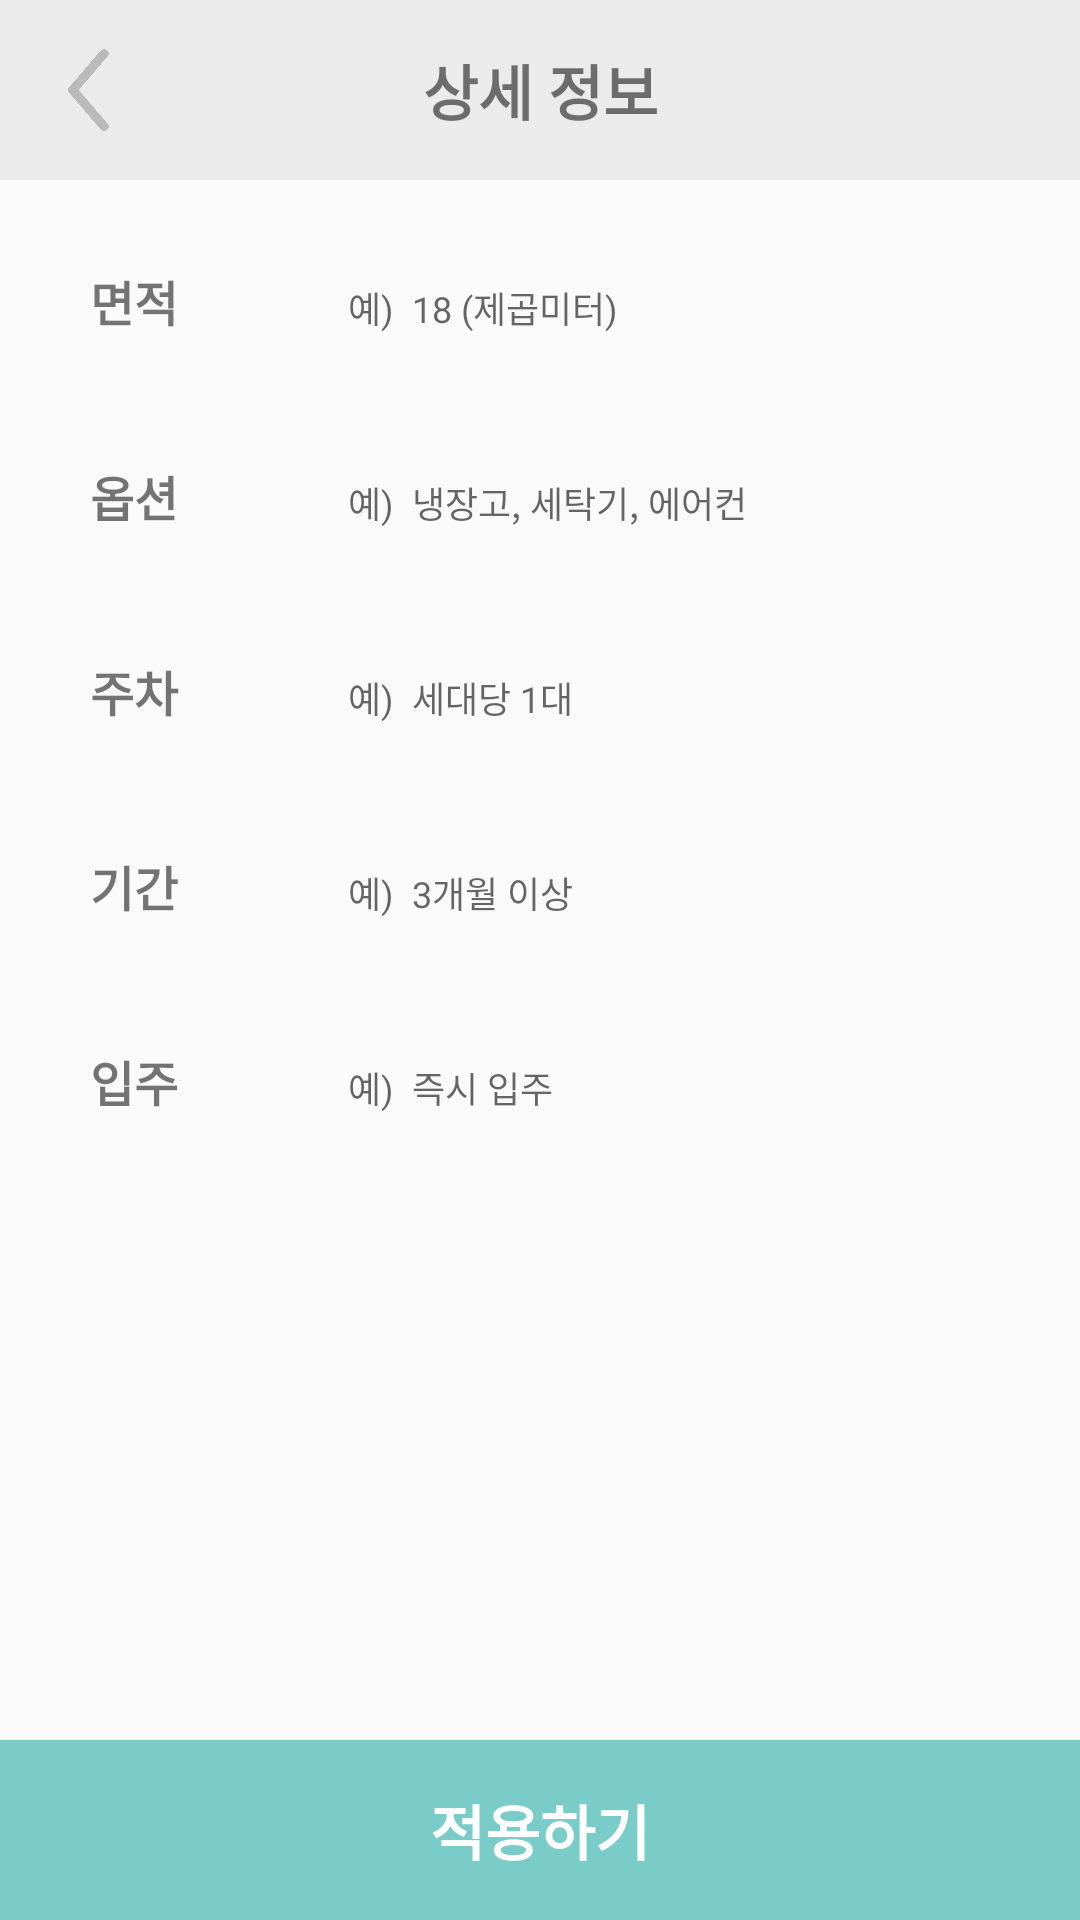

Locate icon controls on the screen. Image size 1080*1920, boxes as (x1, y1, x2, y2).
back: (68, 49, 109, 131)
